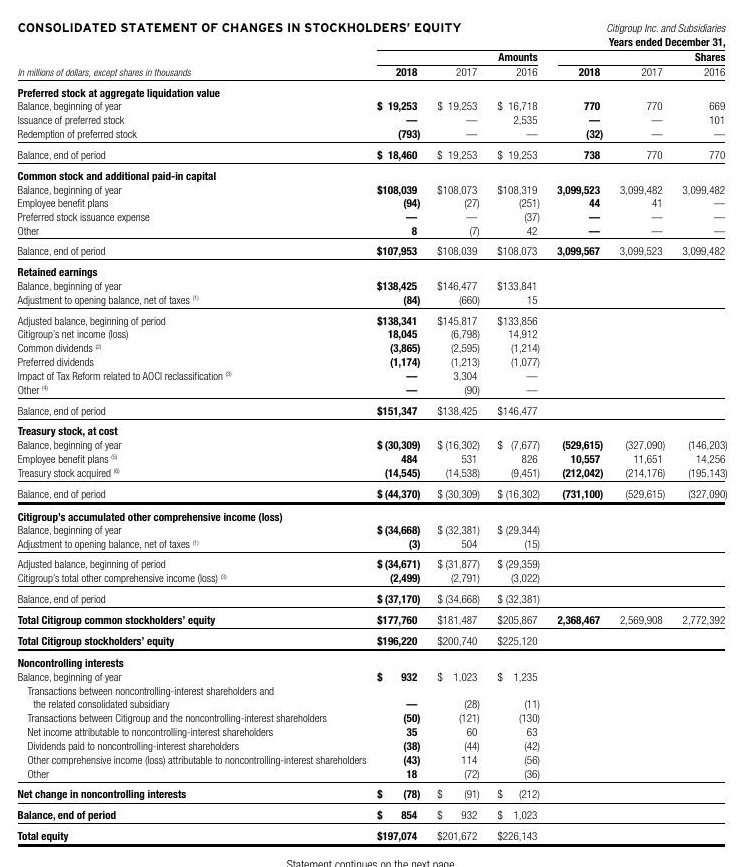table: (0, 0, 748, 867)
